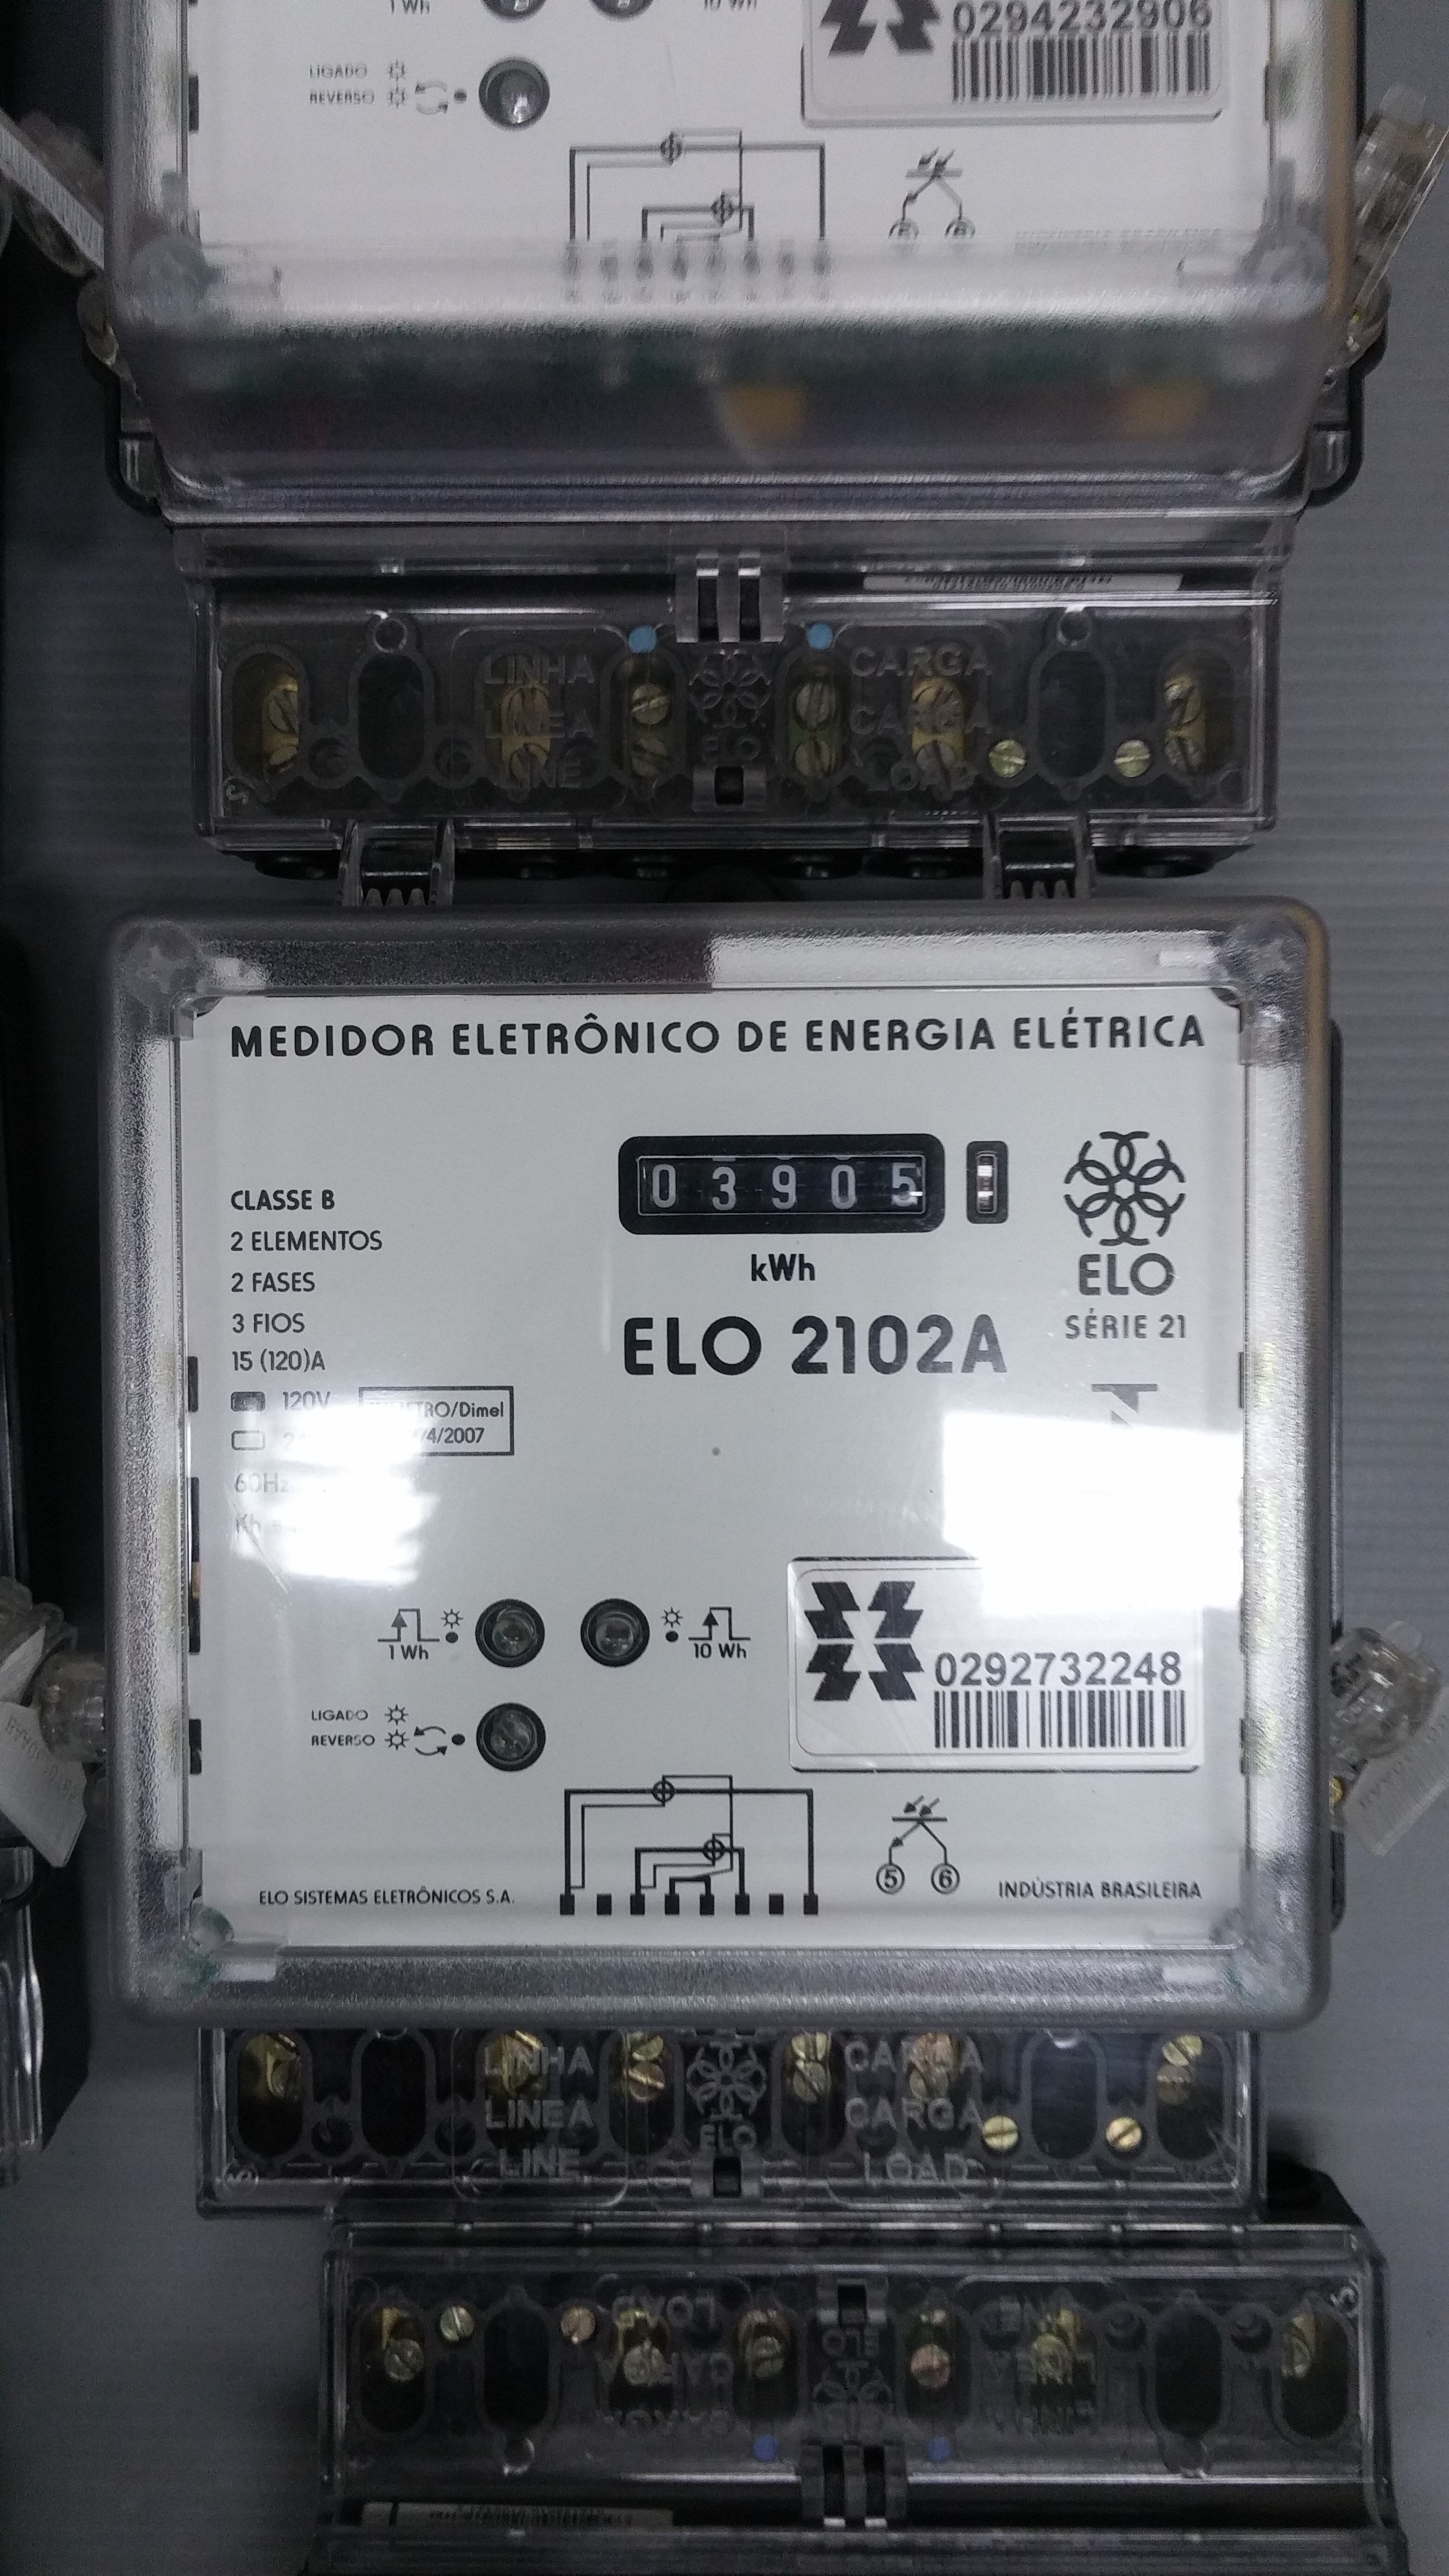counter2: (596, 1129, 959, 1253)
